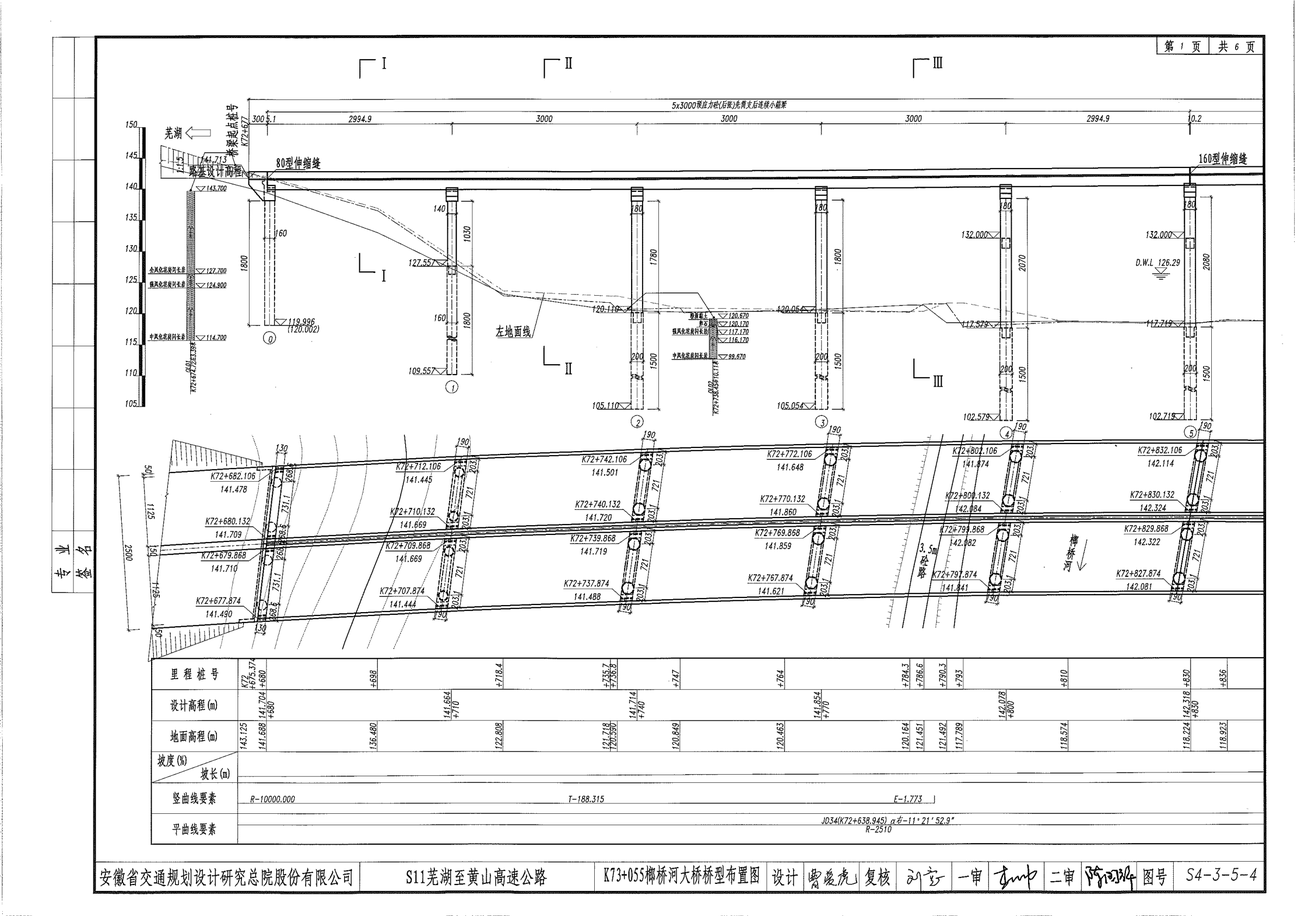A: (106, 47, 1269, 440)
